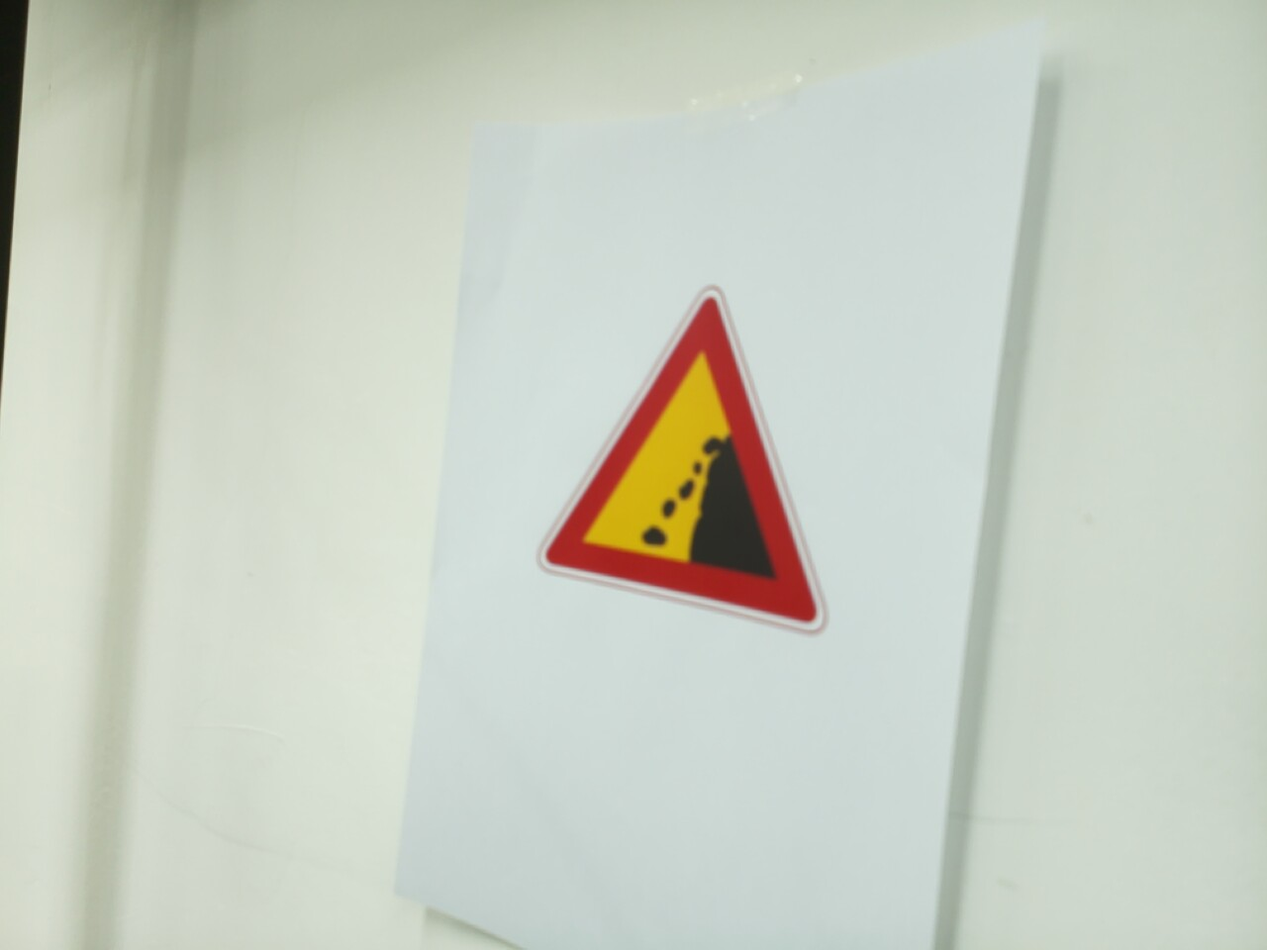falling_rocks: (536, 287, 826, 632)
